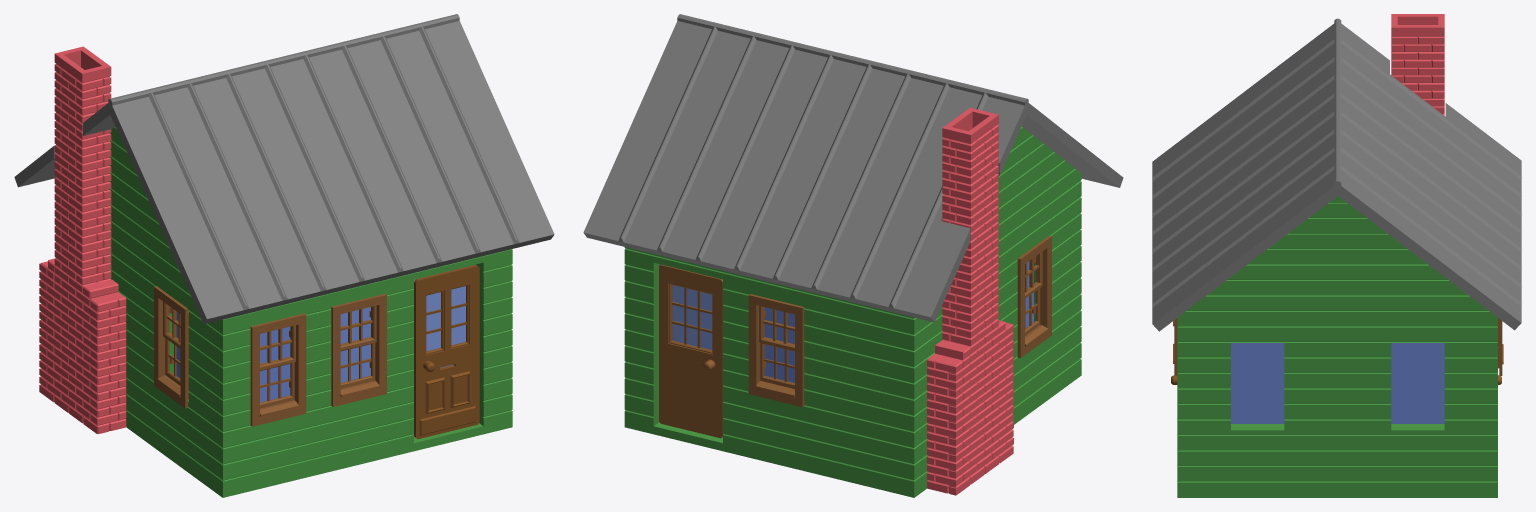
Rendered from Casa.fbx.
3 views of the same model, side by side, from view 1: azimuth 30°, elevation 25°; view 2: azimuth 150°, elevation 25°; view 3: azimuth 270°, elevation 25° (orthographic). The views are drawn at different scales.
Parts seen in each view (by area): view 1: House Mk7 v30 Front-Right; view 2: House Mk7 v30 Front-Right; view 3: House Mk7 v30 Front-Right.
Boxes of the visible parts, <box> form: House Mk7 v30 Front-Right: <box>14,14,554,497</box>; House Mk7 v30 Front-Right: <box>583,14,1123,497</box>; House Mk7 v30 Front-Right: <box>1152,14,1521,497</box>.
Bounding box in the file's own units: 18000 × 17363 × 17274.
